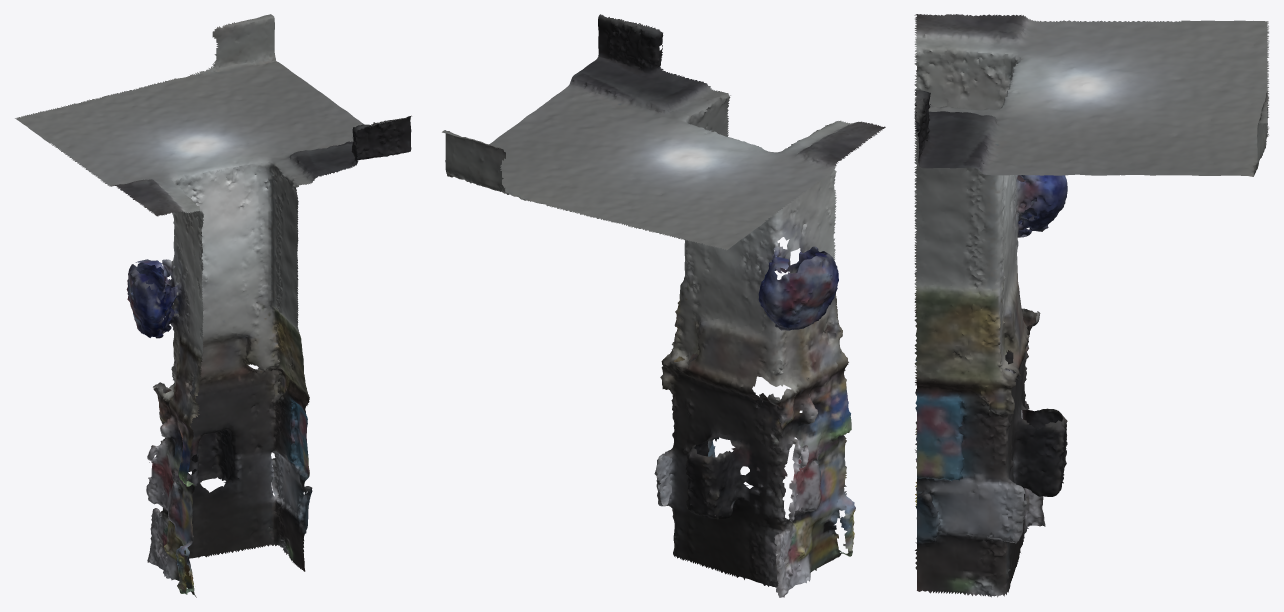
The model's file is fine.glb.
3 views of the same model, side by side, from view 1: azimuth 30°, elevation 25°; view 2: azimuth 150°, elevation 25°; view 3: azimuth 270°, elevation 25° (orthographic). The views are drawn at different scales.
Size of the model in its own units: 1.22 by 1.97 by 1.18.
